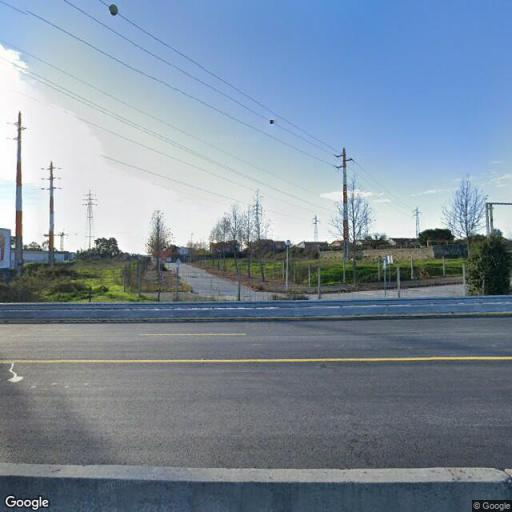mono_10: (10, 109, 29, 268), (334, 145, 354, 256)
mono_9: (41, 159, 62, 266)
ss_3: (80, 186, 98, 248), (250, 197, 264, 242)
ss_4: (410, 203, 426, 239), (310, 210, 322, 244)
